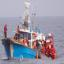fishing boat: (0, 0, 58, 61)
